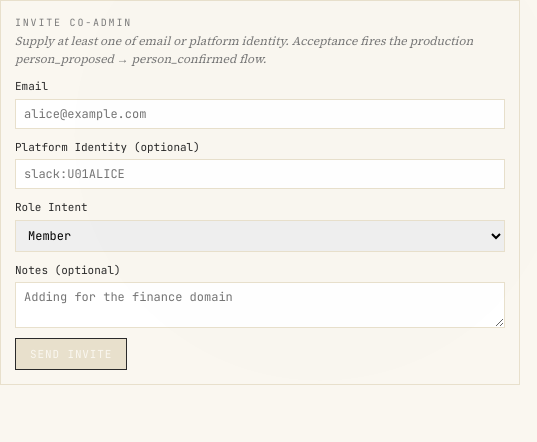
Scenario: InvitePersonForm › surfaces the error when the action fails
The width and height of the screenshot is (537, 442).
# Force submit by populating email field
Type "bad@example.com" into the field with test id "onboard-person-invite-email".
click(260, 114); type("bad@example.com")  # box top-left (15, 98), bottom-right (505, 128)
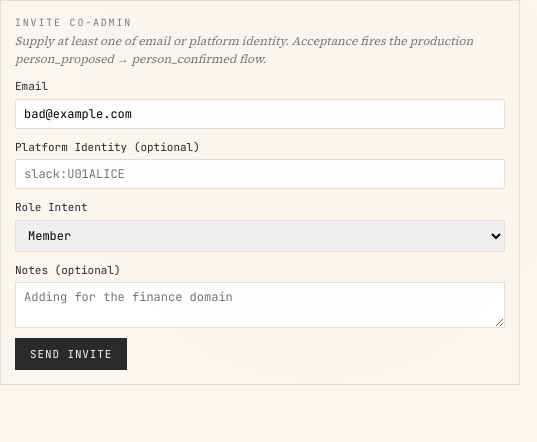
Click the button with test id "onboard-person-invite-submit".
click(71, 354)  # box top-left (15, 338), bottom-right (127, 370)
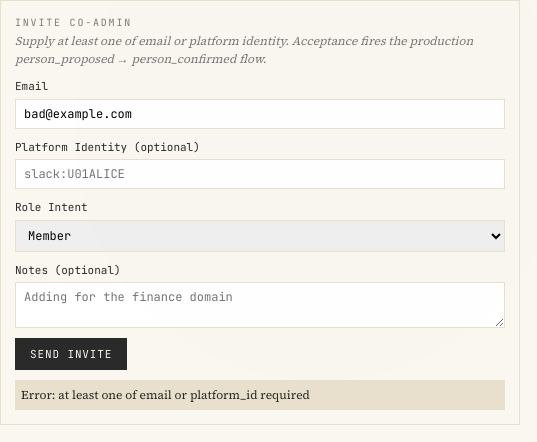
Expected: the text with test id "onboard-person-invite-error" shows "at least one of email", top-left (58, 387), bottom-right (310, 403)
